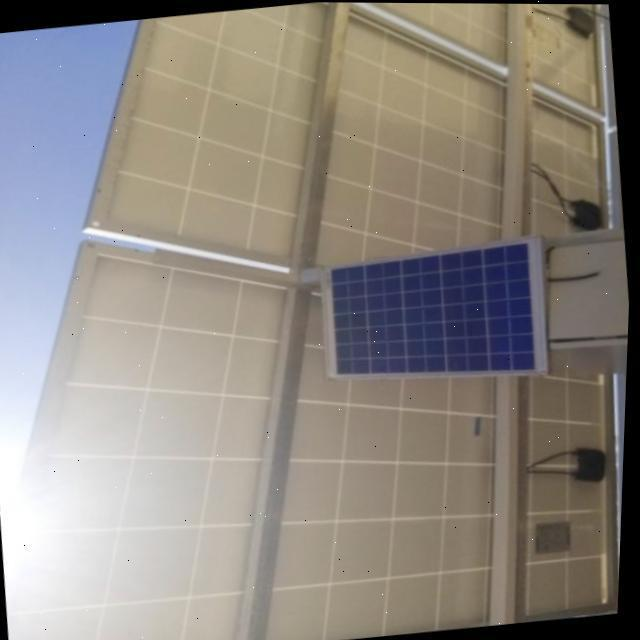Normal Solar Panel: (315, 233, 553, 393)
